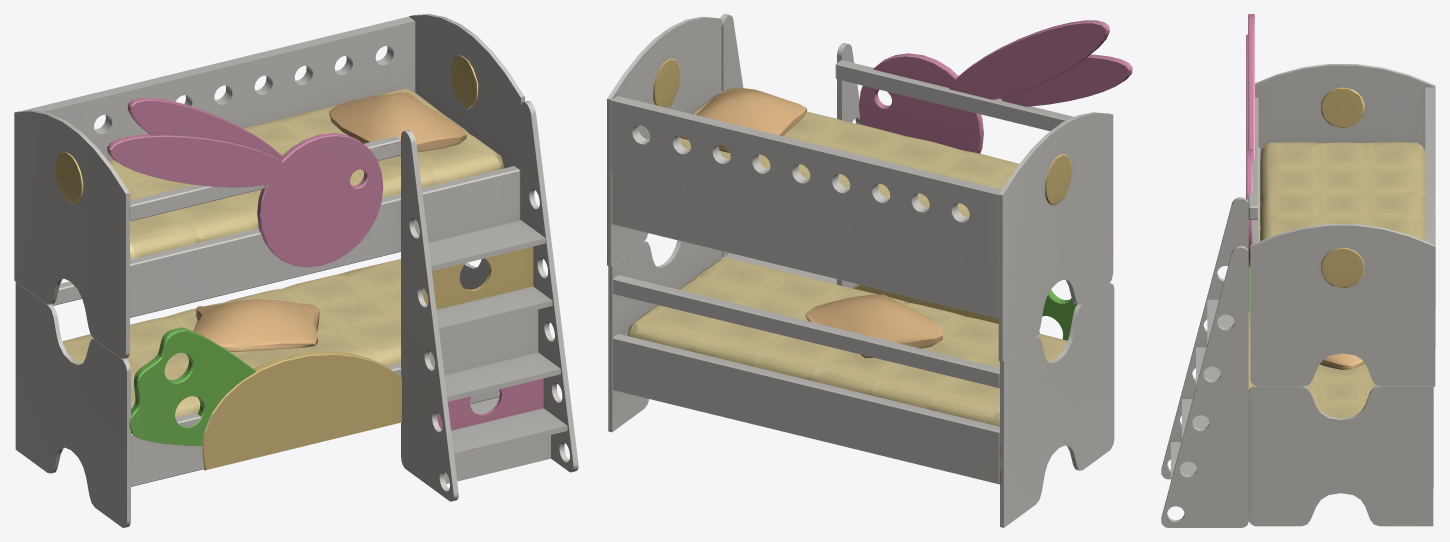
Rendered from raw_model.obj.
3 renders of one model, left to right at view 1: azimuth 30°, elevation 25°; view 2: azimuth 150°, elevation 25°; view 3: azimuth 270°, elevation 25°, orthographic. The views are drawn at different scales.
Parts seen in each view (by area): view 1: solid_001, solid_002, solid_006, solid_005, solid_004, solid_003; view 2: solid_001, solid_006, solid_002, solid_004, solid_005, solid_003; view 3: solid_001, solid_006, solid_005, solid_002, solid_004.
Part boxes in pixels (left/top/right/bottom): solid_001: left=14, top=14, right=578, bottom=527; solid_002: left=107, top=98, right=543, bottom=430; solid_006: left=62, top=88, right=504, bottom=417; solid_005: left=56, top=55, right=533, bottom=470; solid_004: left=193, top=92, right=466, bottom=351; solid_003: left=129, top=327, right=255, bottom=445; solid_001: left=607, top=14, right=1114, bottom=527; solid_006: left=627, top=92, right=1067, bottom=426; solid_002: left=859, top=20, right=1132, bottom=153; solid_004: left=679, top=88, right=942, bottom=358; solid_005: left=653, top=58, right=1071, bottom=323; solid_003: left=1038, top=289, right=1076, bottom=340; solid_001: left=1161, top=64, right=1435, bottom=527; solid_006: left=1260, top=142, right=1425, bottom=418; solid_005: left=1248, top=87, right=1364, bottom=390; solid_002: left=1246, top=14, right=1254, bottom=267; solid_004: left=1320, top=353, right=1364, bottom=369.
Size of the model in its own units: 2.09 by 2.04 by 1.43.
1 material, 1 textured.
